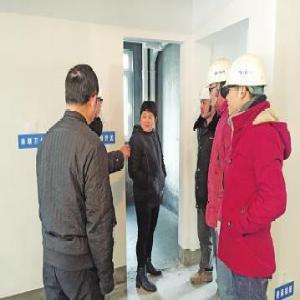none: (62, 61, 101, 128), (138, 98, 161, 136)
white: (224, 53, 270, 119), (205, 56, 234, 105), (197, 84, 216, 121)
